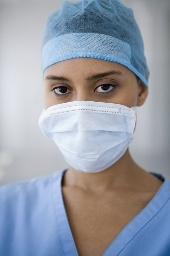correctlyWear: (38, 56, 148, 174)
